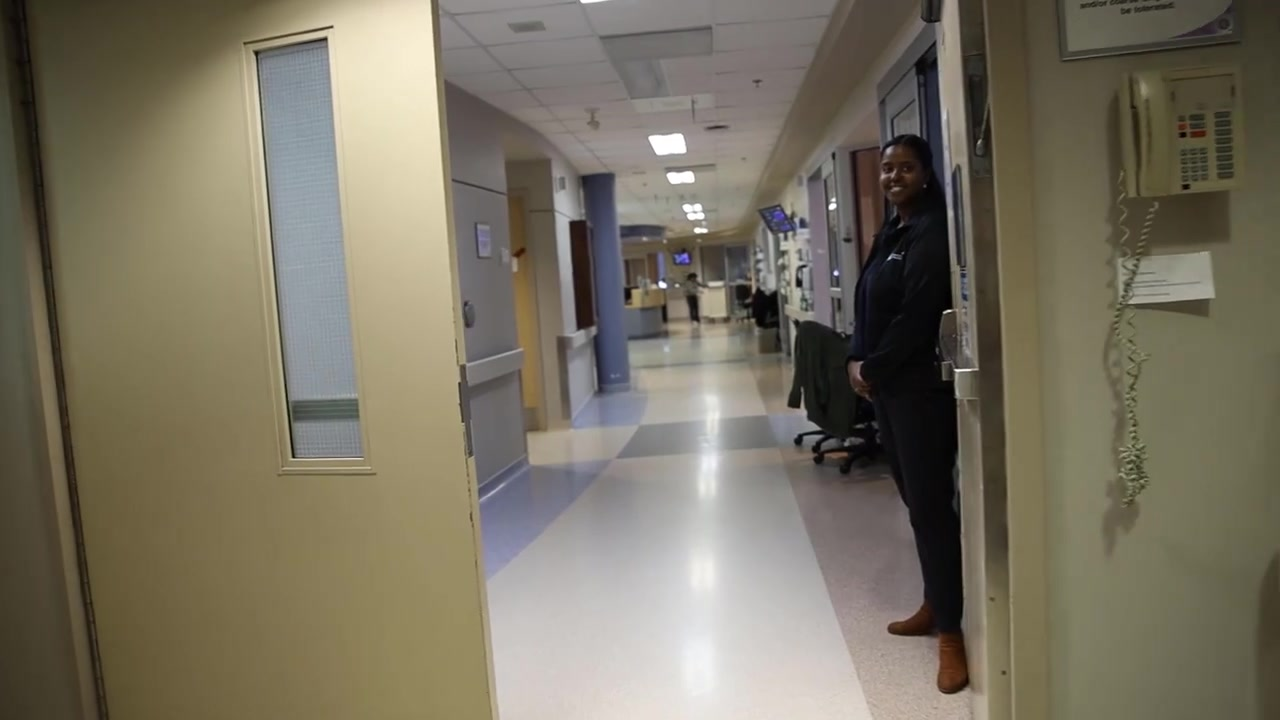TV: (758, 203, 796, 235), (672, 252, 691, 265)
chair: (792, 316, 885, 475), (737, 283, 756, 325)
counter: (627, 287, 664, 337)
hallway_assist_bar: (468, 345, 524, 387), (564, 328, 598, 349)
person: (685, 272, 708, 324)
push_latch: (938, 340, 982, 400)
staff: (845, 135, 969, 694)
telephone: (1109, 65, 1243, 510)
waste_bin: (754, 329, 778, 354)
